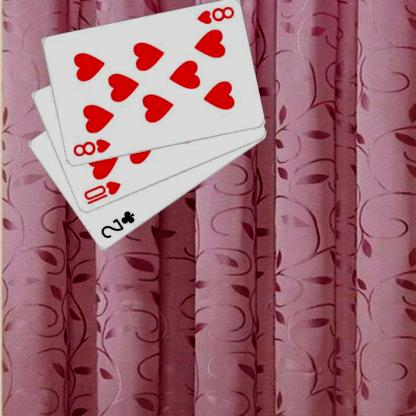10H: (81, 179, 122, 206)
2C: (98, 208, 136, 240)
8H: (70, 136, 112, 158), (194, 4, 235, 26)
